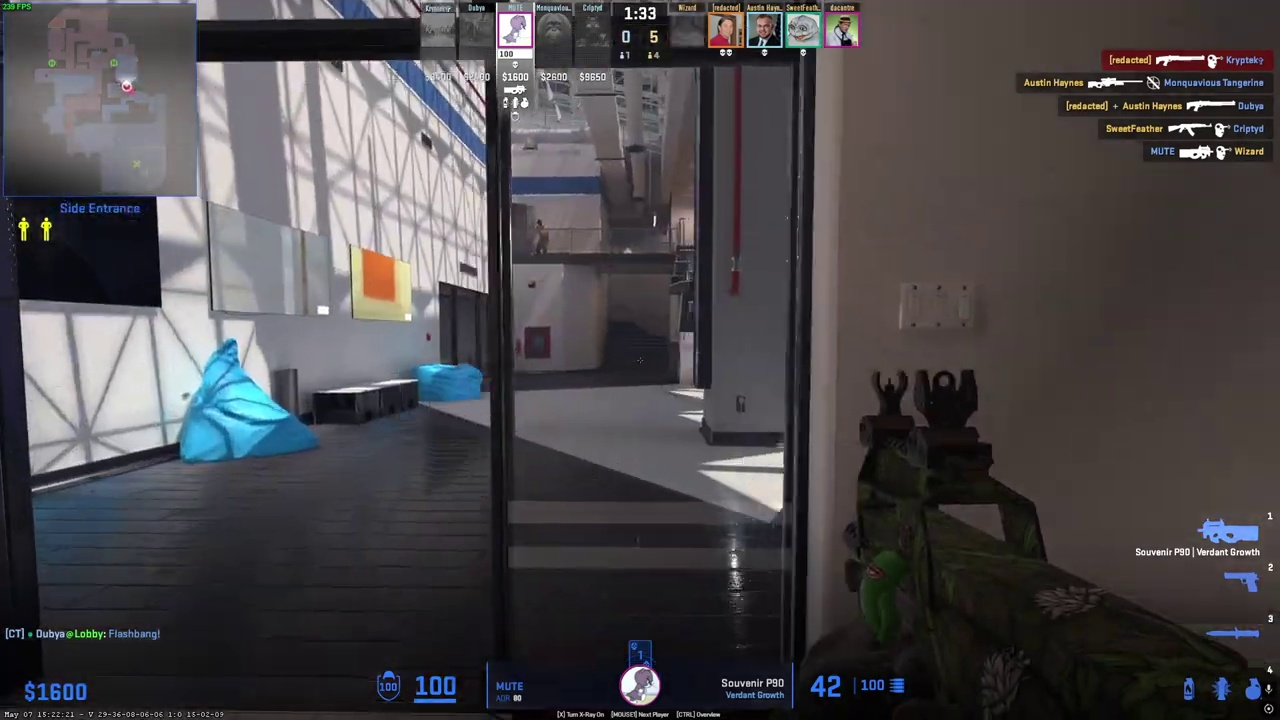Terrorist: (531, 218, 551, 257)
